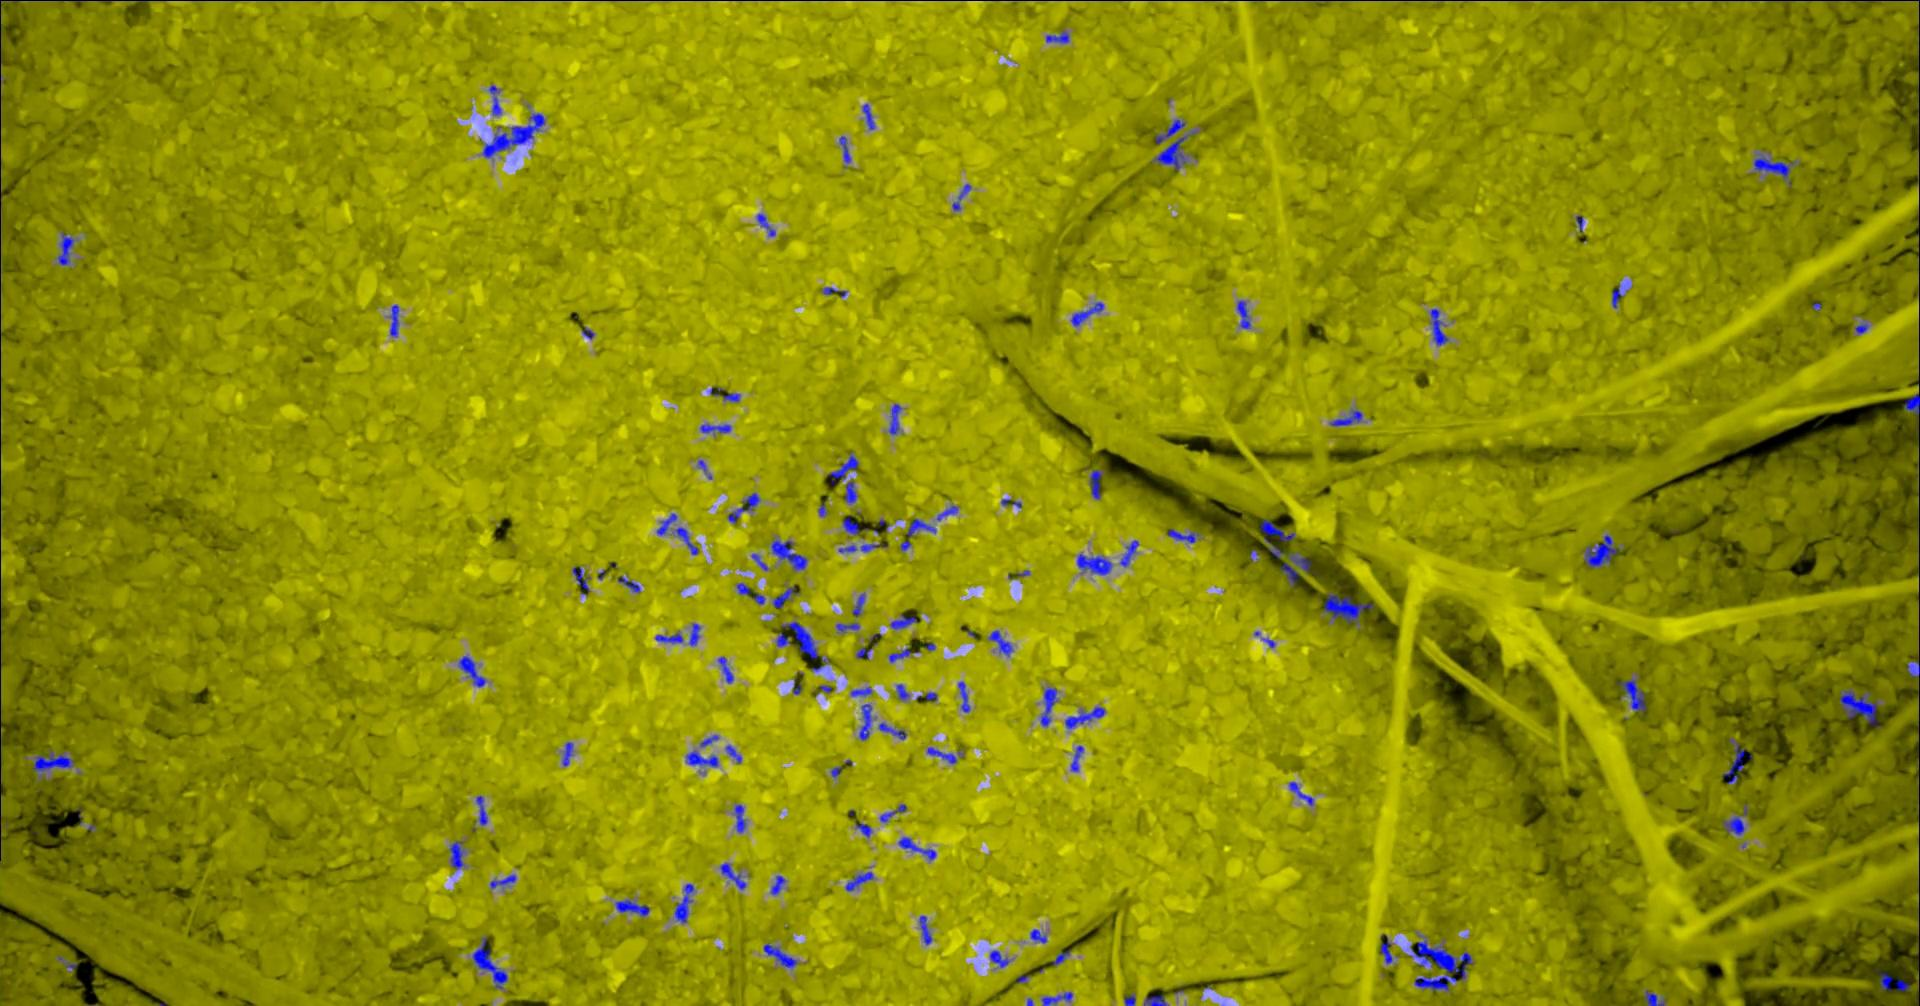ant: (1260, 520, 1310, 586), (483, 113, 543, 158), (1153, 130, 1196, 170), (472, 937, 507, 988), (1323, 592, 1373, 624), (1839, 690, 1879, 727), (781, 621, 818, 658), (32, 749, 72, 779), (1583, 533, 1619, 567), (899, 518, 935, 550), (770, 539, 806, 569), (1615, 677, 1646, 711), (1721, 738, 1743, 782), (728, 492, 759, 523), (1752, 155, 1793, 179), (828, 451, 858, 483), (458, 655, 486, 687), (1064, 706, 1105, 728), (1070, 301, 1103, 326), (763, 942, 796, 968), (897, 837, 935, 859), (673, 883, 693, 922), (1076, 553, 1111, 574), (719, 862, 745, 889), (1430, 307, 1448, 345), (1156, 119, 1183, 144), (1040, 687, 1057, 727), (674, 527, 698, 554), (988, 630, 1012, 655), (1288, 781, 1313, 805), (1879, 970, 1909, 991), (772, 586, 797, 608), (615, 899, 649, 916), (926, 747, 959, 763), (684, 749, 717, 766), (571, 567, 590, 594), (844, 871, 872, 890), (842, 514, 867, 535), (951, 183, 970, 210), (1119, 540, 1138, 567), (57, 232, 72, 265), (1330, 410, 1363, 426), (838, 542, 888, 553), (877, 721, 905, 739), (879, 804, 905, 822), (1906, 661, 1919, 697), (858, 702, 871, 739), (488, 84, 502, 116), (888, 403, 902, 434), (888, 648, 919, 662), (756, 213, 775, 236), (1167, 528, 1197, 542), (889, 614, 917, 629), (717, 655, 733, 683), (1041, 991, 1072, 1005), (657, 513, 676, 535), (1722, 815, 1743, 835), (1090, 469, 1103, 498), (450, 840, 463, 869), (1236, 300, 1250, 328), (475, 795, 488, 826), (617, 575, 640, 592), (489, 874, 516, 888), (918, 915, 931, 944), (957, 681, 969, 713), (654, 630, 682, 643), (1903, 394, 1919, 417), (1379, 936, 1392, 963), (989, 950, 1010, 967), (1070, 746, 1083, 771), (734, 804, 745, 832), (725, 744, 742, 763), (1051, 949, 1070, 965), (1644, 989, 1665, 1005), (862, 103, 874, 130), (936, 506, 957, 520), (389, 304, 397, 337), (1045, 30, 1068, 43), (770, 875, 785, 894), (839, 135, 850, 163), (852, 593, 863, 616), (688, 622, 700, 645), (1143, 995, 1168, 1005), (855, 822, 871, 837), (844, 480, 856, 502), (698, 424, 730, 432), (1611, 285, 1622, 307), (836, 622, 858, 633), (850, 686, 872, 696), (1030, 929, 1046, 942), (563, 741, 571, 766), (822, 287, 846, 296), (776, 631, 789, 647), (999, 498, 1021, 507), (855, 647, 870, 658), (897, 683, 908, 699), (737, 582, 749, 594), (723, 392, 740, 401), (1123, 993, 1135, 1005), (0, 602, 1, 667)
